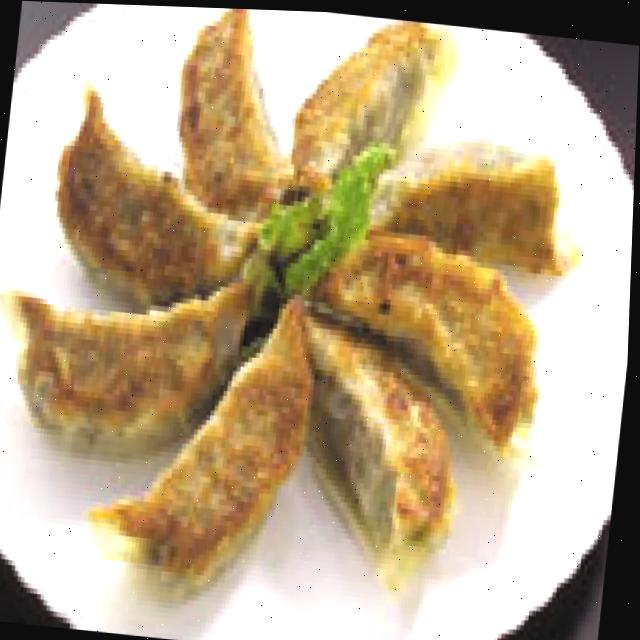带馅早点: (0, 0, 597, 640)
